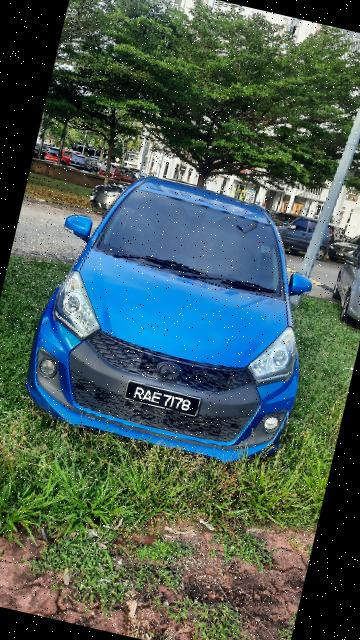License_Plate: (119, 379, 207, 424)
car: (7, 152, 339, 478)
